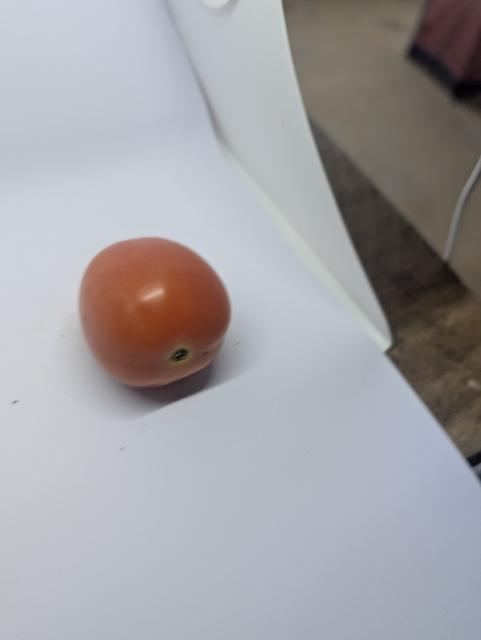red: (77, 231, 234, 399)
